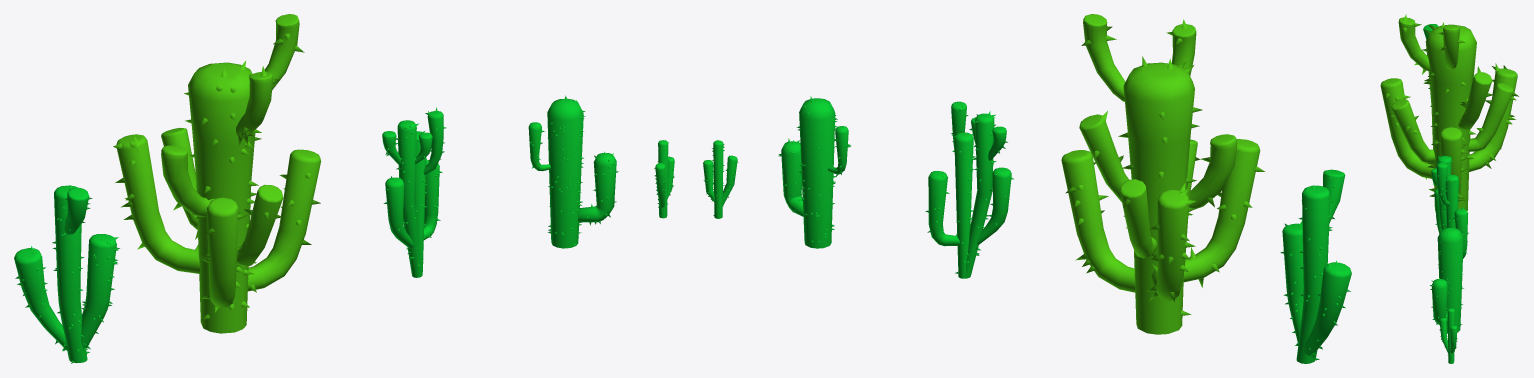
Rendered from cactus_1.fbx.
The picture shows the model from 3 angles, left to right: view 1: azimuth 30°, elevation 25°; view 2: azimuth 150°, elevation 25°; view 3: azimuth 270°, elevation 25°; orthographic projection. The views are drawn at different scales.
Visible parts, largest first — view 1: Cactis_5, Cactis_4, Cactis_2, Cactis_3, Cactis_1; view 2: Cactis_5, Cactis_4, Cactis_3, Cactis_2, Cactis_1; view 3: Cactis_5, Cactis_2, Cactis_3, Cactis_1.
Boxes of the visible parts, x1=… form: Cactis_5: x1=113, y1=14, x2=320, y2=333; Cactis_4: x1=14, y1=185, x2=119, y2=363; Cactis_2: x1=528, y1=95, x2=618, y2=248; Cactis_3: x1=382, y1=107, x2=446, y2=277; Cactis_1: x1=654, y1=140, x2=674, y2=218; Cactis_5: x1=1061, y1=14, x2=1264, y2=334; Cactis_4: x1=1280, y1=169, x2=1351, y2=363; Cactis_3: x1=925, y1=101, x2=1013, y2=278; Cactis_2: x1=778, y1=96, x2=850, y2=248; Cactis_1: x1=703, y1=140, x2=738, y2=218; Cactis_5: x1=1380, y1=14, x2=1518, y2=210; Cactis_2: x1=1430, y1=227, x2=1463, y2=333; Cactis_3: x1=1431, y1=154, x2=1468, y2=258; Cactis_1: x1=1439, y1=308, x2=1457, y2=363.
Size of the model in its own units: 1334 by 572 by 347.
